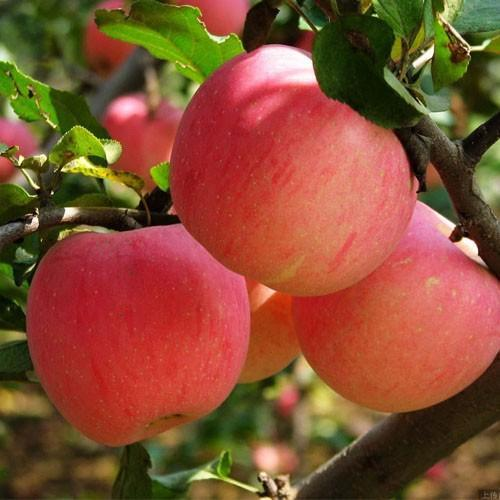apple: (174, 49, 420, 299), (28, 222, 252, 449), (284, 209, 496, 424)
